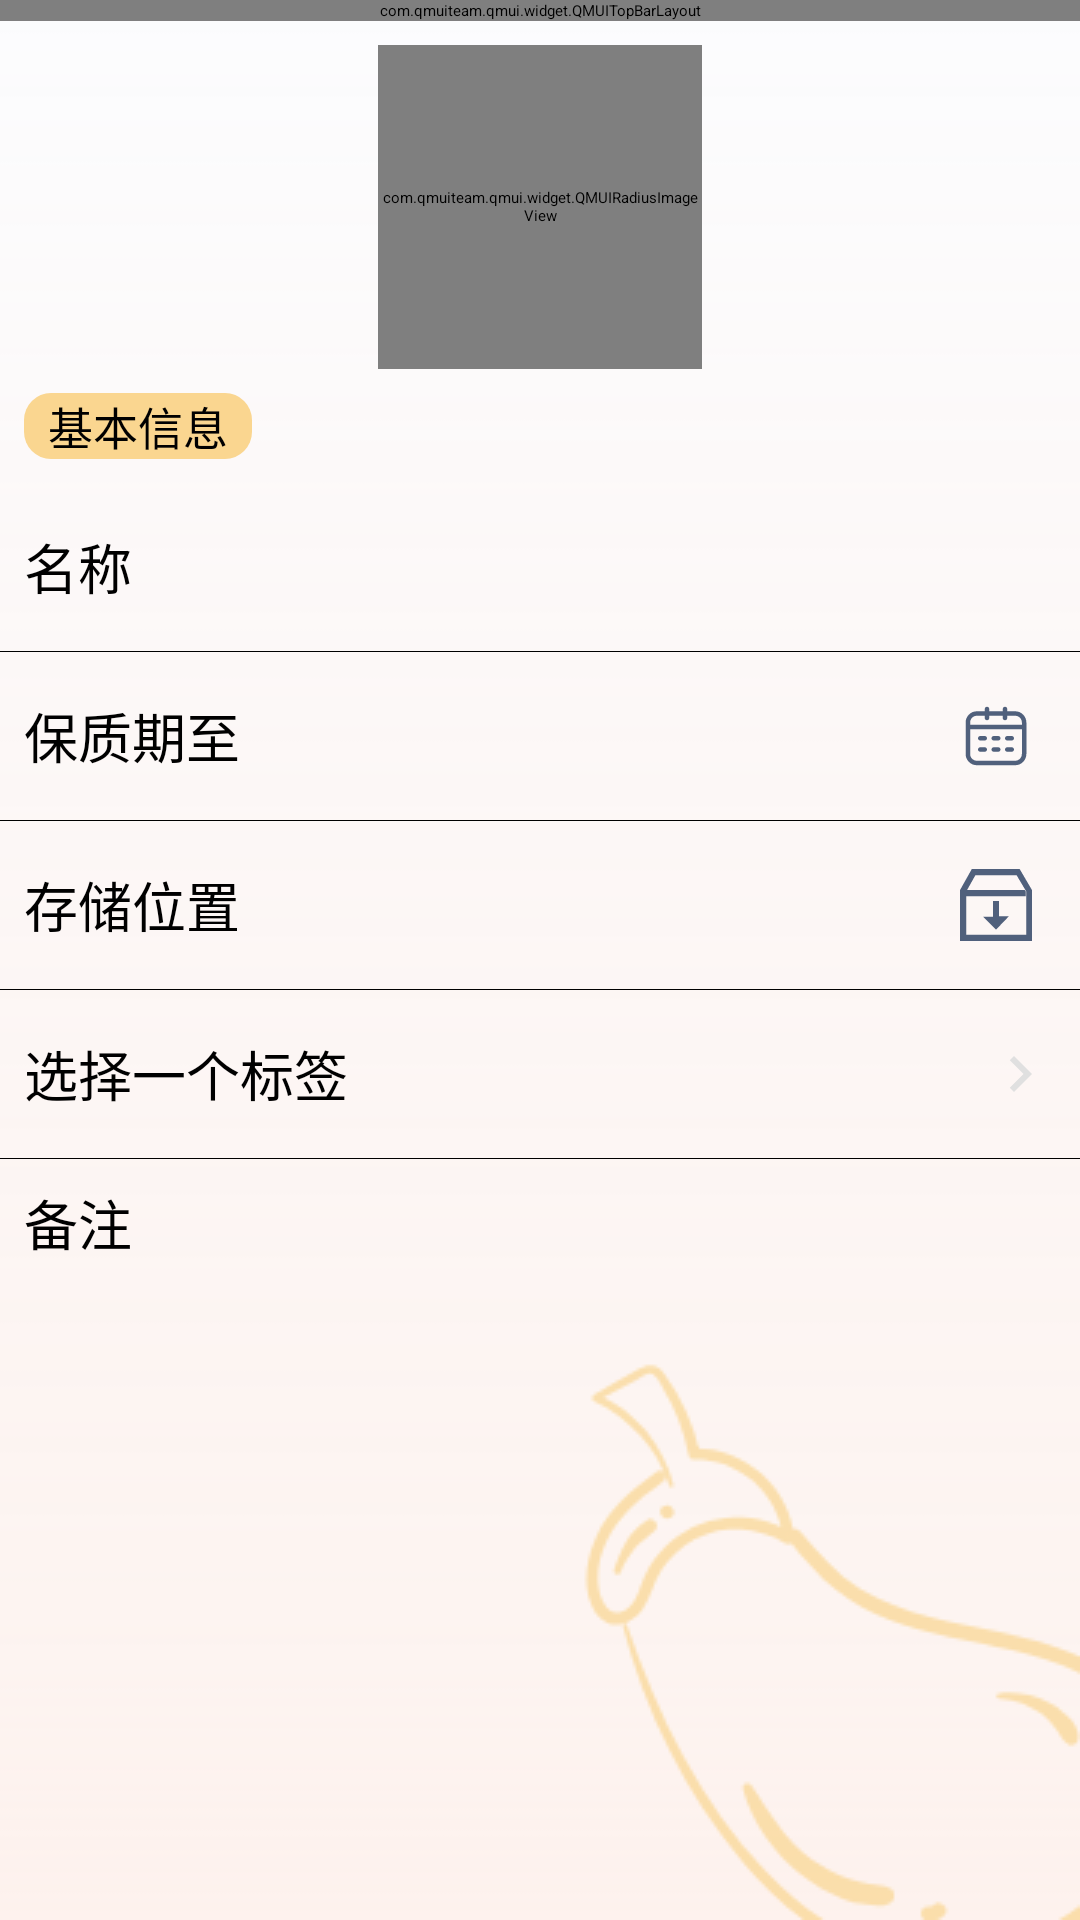

Named icons in this screenshot (1080w x 1920h) and their bounding boxes, box(x1, y1, x2, y2):
chouti: box(960, 869, 1032, 941)
guoqi: box(965, 707, 1027, 766)
